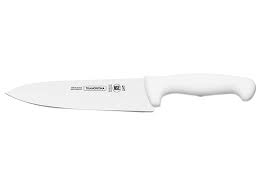kuchillu: (2, 71, 258, 116)
